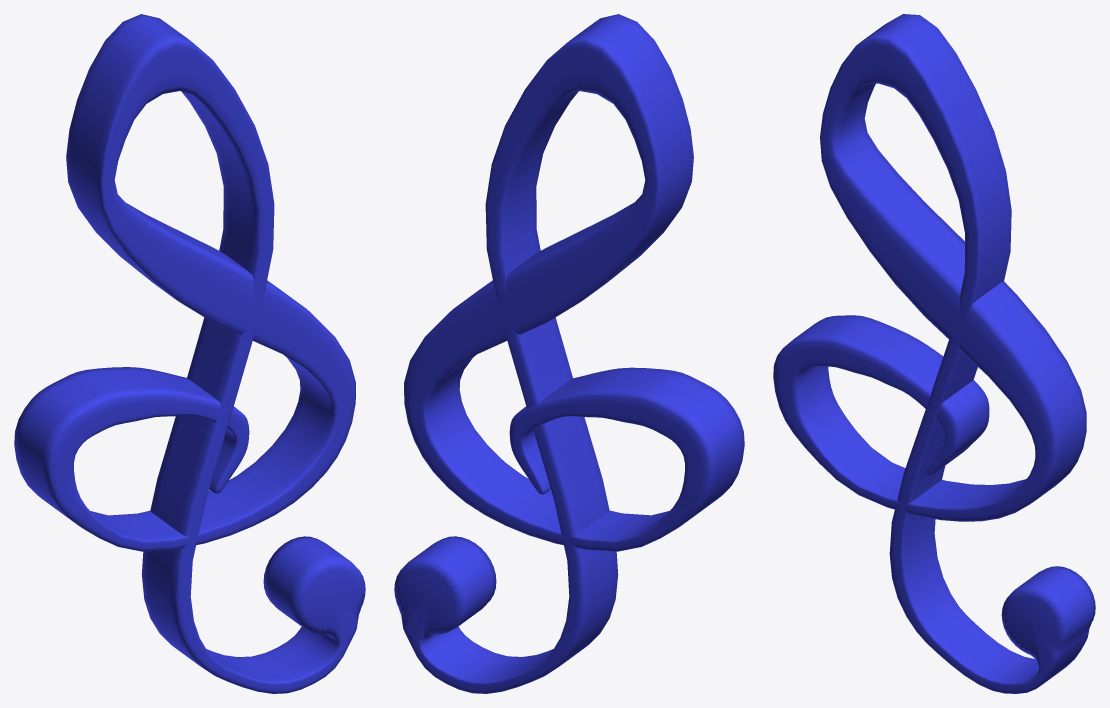
File: uploads_files_2463312_Treble+clef.fbx
3 renders of one model, left to right at view 1: azimuth 30°, elevation 25°; view 2: azimuth 150°, elevation 25°; view 3: azimuth 330°, elevation 25°, orthographic. The views are drawn at different scales.
Visible parts, largest first — view 1: Circle.001; view 2: Circle.001; view 3: Circle.001.
Part boxes in pixels (x1,y1,x2,y2): Circle.001: [14, 14, 365, 693]; Circle.001: [394, 14, 744, 693]; Circle.001: [773, 14, 1095, 693].
Size of the model in its own units: 87.24 by 179 by 17.27.
